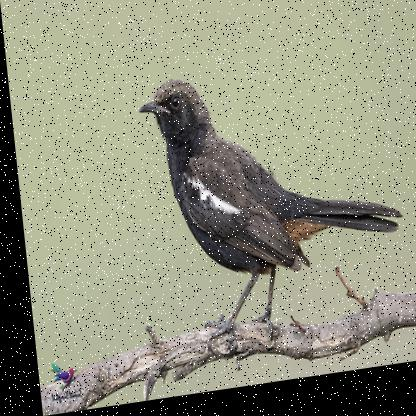Burung: (135, 60, 405, 364)
